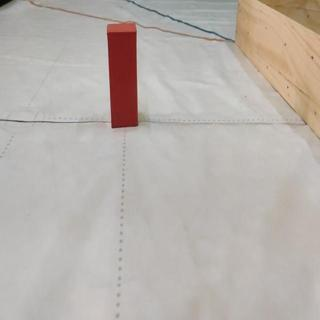redbox: (107, 22, 138, 129)
